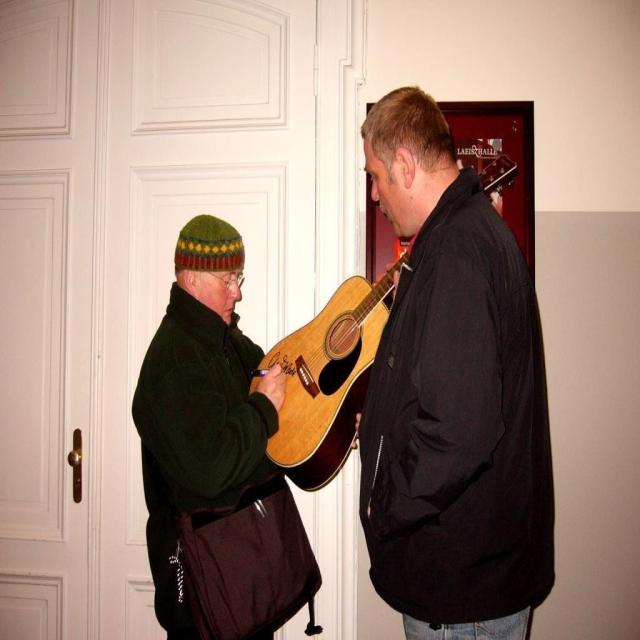guitar: (243, 149, 523, 495)
